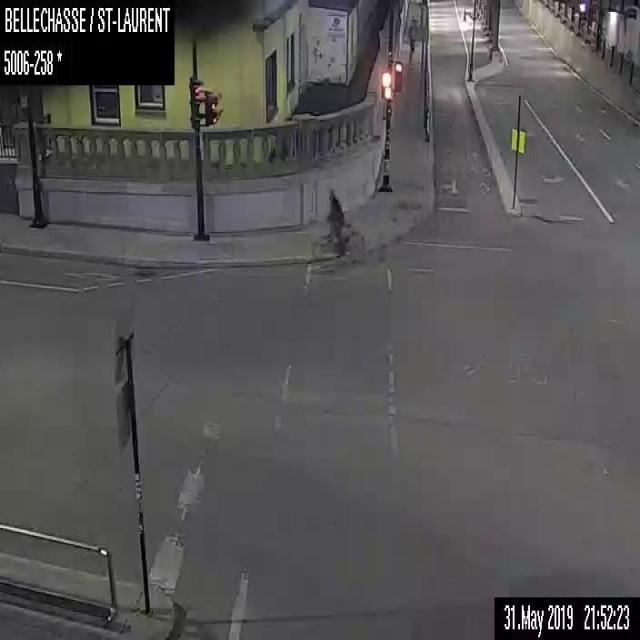cyclist: (312, 186, 362, 266)
pedestrian: (408, 13, 417, 65)
